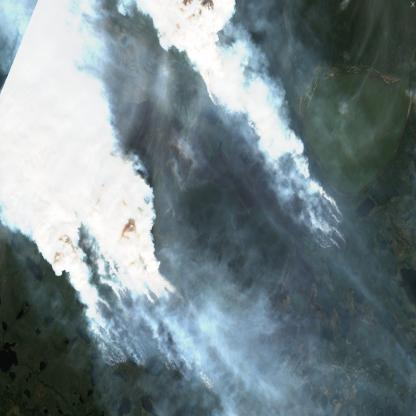fire: (70, 0, 352, 416)
